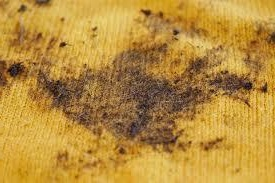earth: (61, 80, 201, 119), (116, 124, 179, 144), (120, 51, 152, 78), (213, 74, 252, 93), (38, 75, 58, 106), (185, 60, 209, 75), (8, 62, 26, 79)
